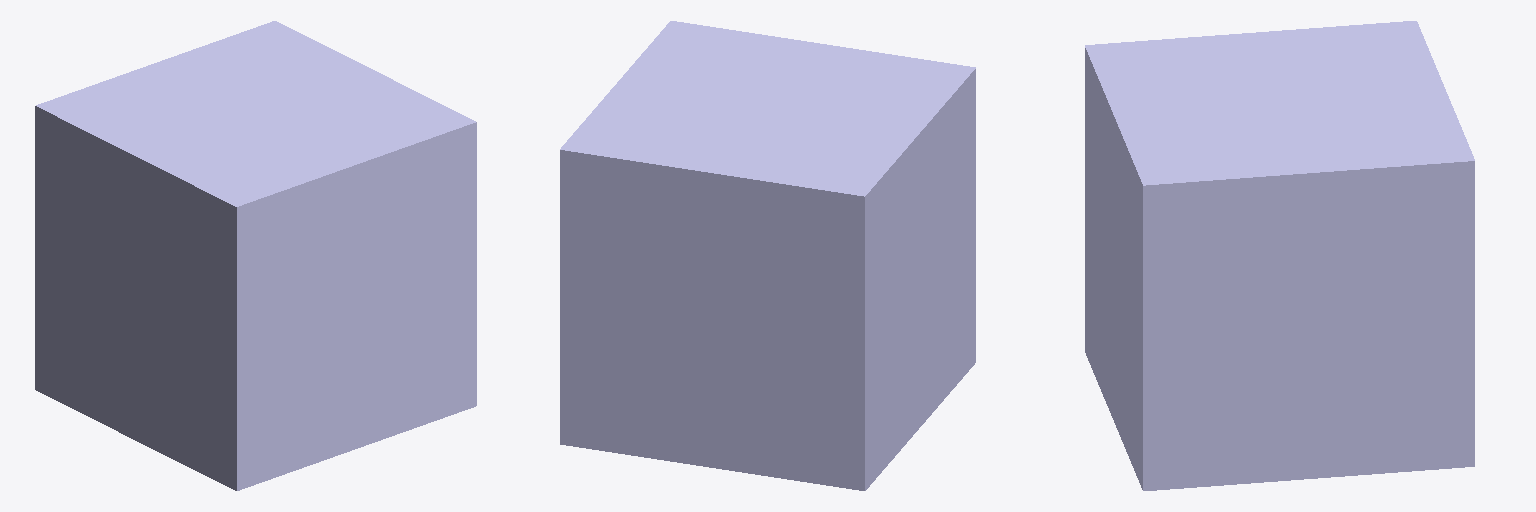
URDF robot description (cube):
<?xml version="1.0"?>
<robot name="cube">
    <link name="robot_base">
        <inertial>
            <origin xyz="0.356477 -0.150452 0.039986" rpy="3.141593 3.141593 1.745329" />
            <inertia iyz="0.0" ixz="0.0" ixy="0.0" ixx="0.00054613342494965" izz="0.00054613342494965" iyy="0.00054613342494965" />
            <mass value="0.5120000243187" />
        </inertial>
        <collision name="cube">
            <origin xyz="0.356477 -0.150452 0.039986" rpy="3.141593 3.141593 1.745329" />
            <geometry>
                <box size="0.080000 0.080000 0.080000" />
            </geometry>
        </collision>
        <visual name="cube">
            <origin xyz="0.356477 -0.150452 0.039986" rpy="3.141593 3.141593 1.745329" />
            <geometry>
                <box size="0.080000 0.080000 0.080000" />
            </geometry>
            <material name="robot_base_material">
                <color rgba="0.850000 0.850000 1.000000 1.0" />
            </material>
        </visual>
    </link>
</robot>

--- What the picture shows (computed from the rendered views, not written in the file) ---
The picture shows the robot from 3 angles, left to right: view 1: azimuth 30°, elevation 25°; view 2: azimuth 150°, elevation 25°; view 3: azimuth 270°, elevation 25°; orthographic projection.
Robot: cube — 1 links, 0 joints (none); root link robot_base; default pose: every joint at zero.
Visible links, largest first — view 1: robot_base; view 2: robot_base; view 3: robot_base.
Link boxes in pixels (box(x1,y1,x2,y2)): robot_base: box(35, 21, 476, 490); robot_base: box(560, 21, 975, 490); robot_base: box(1085, 21, 1474, 490).
Size in the robot's own frame: 0.0927 by 0.0927 by 0.08 metres.
Geometry: primitives only (box / cylinder / sphere), no mesh files.
